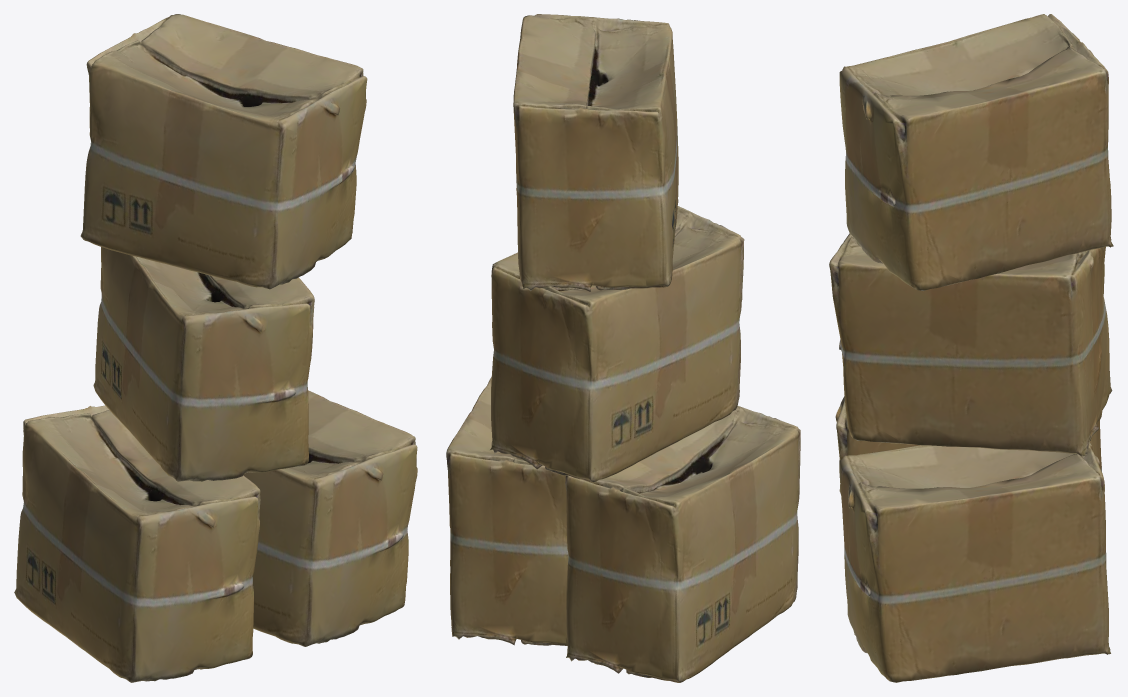
The model's file is prop-cardboardboxes-3.glb.
The picture shows the model from 3 angles, left to right: view 1: azimuth 30°, elevation 25°; view 2: azimuth 150°, elevation 25°; view 3: azimuth 270°, elevation 25°; orthographic projection.
Visible parts, largest first — view 1: prop-cardboardboxes-3 (×4); view 2: prop-cardboardboxes-3 (×4); view 3: prop-cardboardboxes-3 (×4).
Part boxes in pixels (x1=…): prop-cardboardboxes-3 (×4): x1=14, y1=14, x2=417, y2=682; prop-cardboardboxes-3 (×4): x1=446, y1=14, x2=800, y2=682; prop-cardboardboxes-3 (×4): x1=829, y1=14, x2=1113, y2=682.
Bounding box in the file's own units: 1.27 × 2.25 × 1.04.
Materials: 1 (1 with a texture image).
